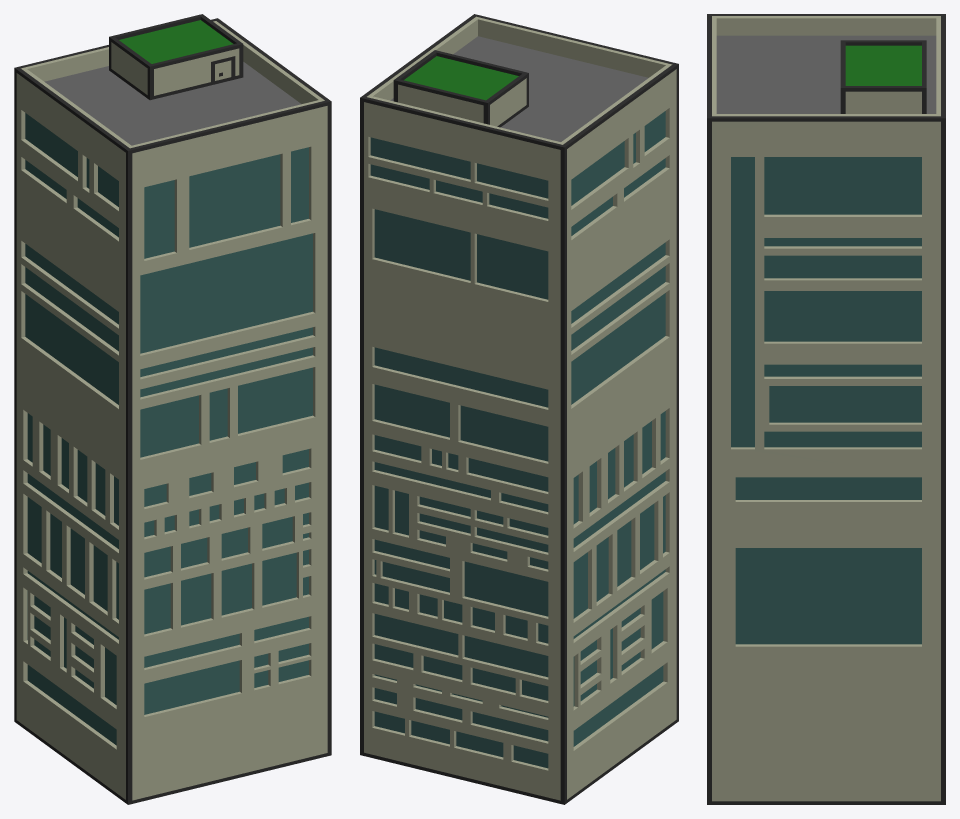
File: Building2.fbx
3 renders of one model, left to right at view 1: azimuth 30°, elevation 25°; view 2: azimuth 150°, elevation 25°; view 3: azimuth 270°, elevation 25°, orthographic. The views are drawn at different scales.
Visible parts, largest first — view 1: Building2; view 2: Building2; view 3: Building2.
Part boxes in pixels (x1,y1,x2,y2): Building2: (14,14,331,804); Building2: (360,14,678,804); Building2: (707,14,945,804).
Size of the model in its own units: 1525 by 1575 by 4961.
